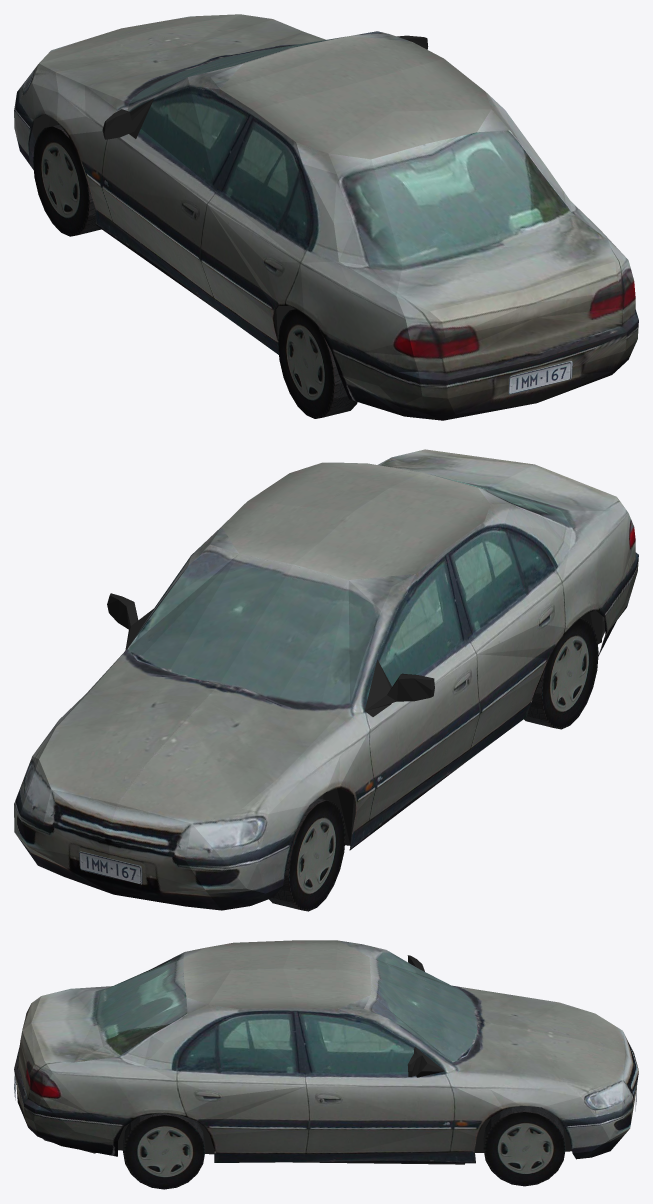
Rendered from car.glb.
3 renders of one model, top to bottom at view 1: azimuth 30°, elevation 25°; view 2: azimuth 150°, elevation 25°; view 3: azimuth 270°, elevation 25°, orthographic. The views are drawn at different scales.
Parts seen in each view (by area): view 1: FNU0J343WQ66ATRP2QS082878; view 2: FNU0J343WQ66ATRP2QS082878; view 3: FNU0J343WQ66ATRP2QS082878.
Part boxes in pixels (x1,y1,x2,y2): FNU0J343WQ66ATRP2QS082878: [14, 14, 638, 420]; FNU0J343WQ66ATRP2QS082878: [14, 449, 638, 911]; FNU0J343WQ66ATRP2QS082878: [14, 940, 638, 1189].
Bounding box in the file's own units: 1.09 × 0.77 × 2.5.
Materials: 7 (7 with a texture image).
